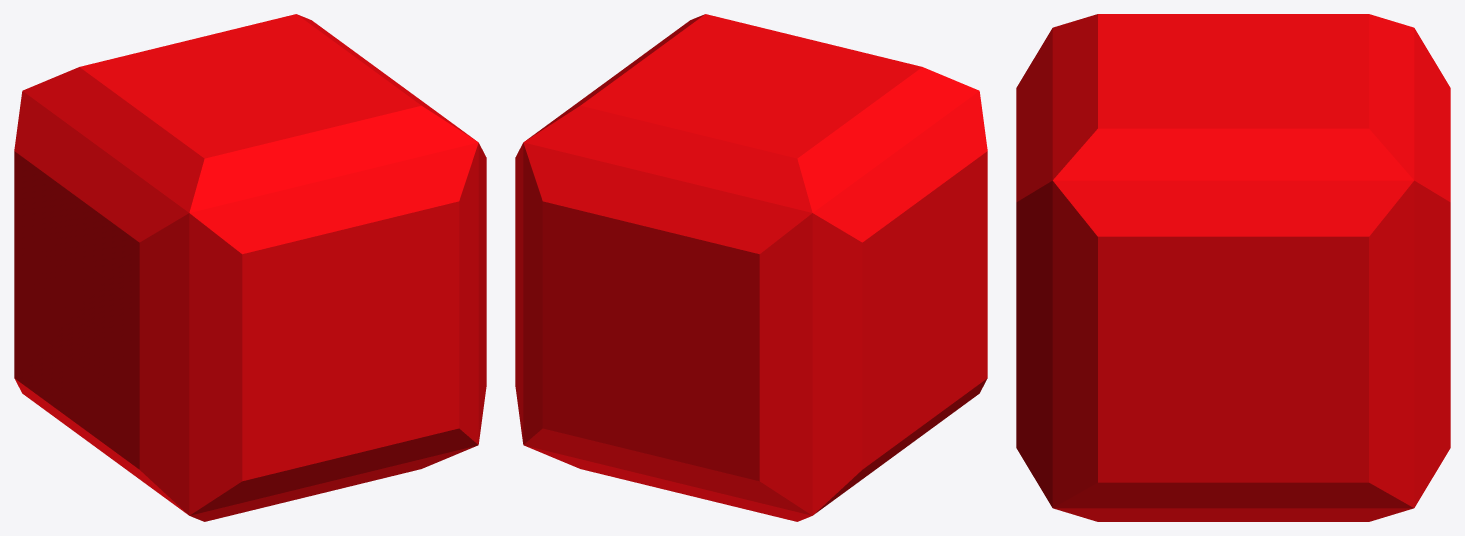
The model's file is Player.dae.
3 views of the same model, side by side, from view 1: azimuth 30°, elevation 25°; view 2: azimuth 150°, elevation 25°; view 3: azimuth 270°, elevation 25° (orthographic). The views are drawn at different scales.
Parts seen in each view (by area): view 1: Player; view 2: Player; view 3: Player.
Part boxes in pixels (<box>): Player: <box>14,14,486,521</box>; Player: <box>515,14,987,521</box>; Player: <box>1016,14,1450,521</box>.
Bounding box in the file's own units: 1.09 × 1.09 × 1.09.
